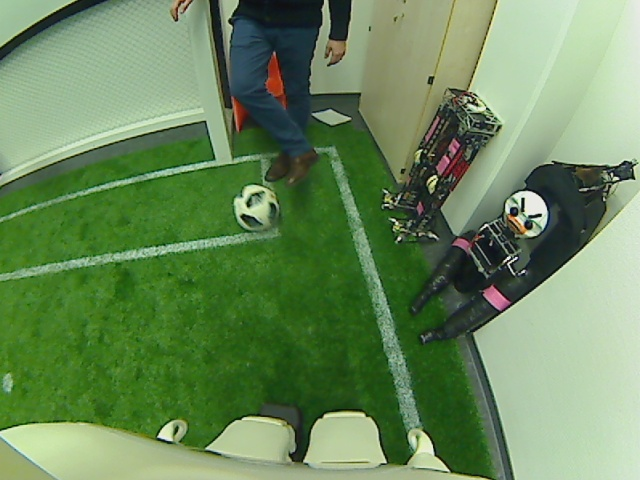ball: (231, 183, 281, 233)
